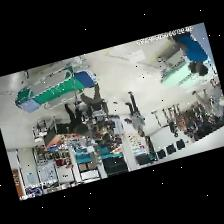person: (172, 31, 208, 75), (65, 102, 103, 142), (80, 83, 107, 133), (125, 91, 145, 135), (193, 88, 213, 119), (173, 103, 188, 133), (163, 107, 178, 136), (181, 48, 196, 72)
